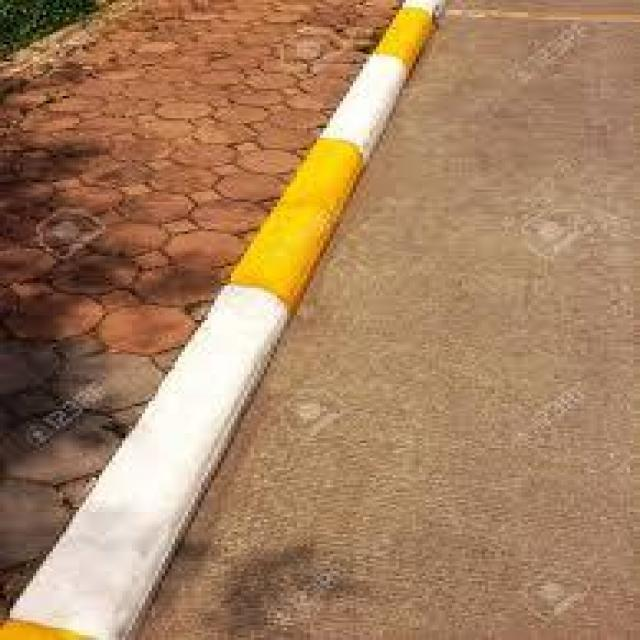curb: (2, 397, 261, 640), (165, 236, 344, 387), (339, 8, 456, 121), (288, 130, 395, 219)
